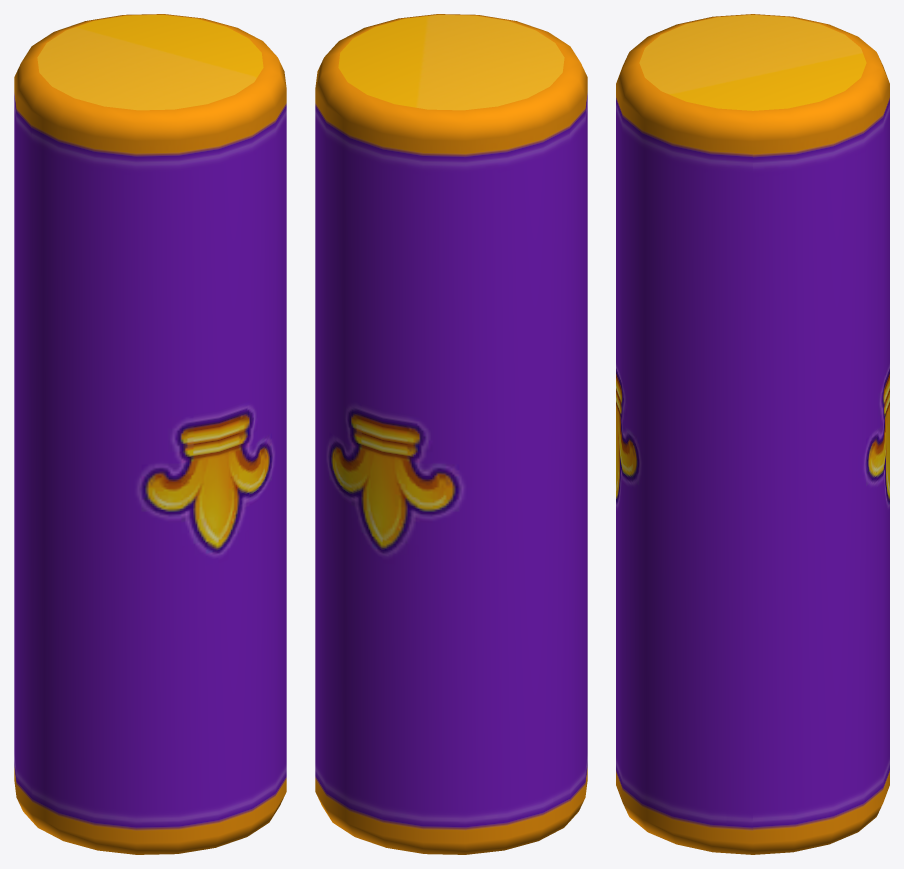
3 views of the same model, side by side, from view 1: azimuth 30°, elevation 25°; view 2: azimuth 150°, elevation 25°; view 3: azimuth 270°, elevation 25° (orthographic).
Parts seen in each view (by area): view 1: 4047; view 2: 4047; view 3: 4047.
Part boxes in pixels (x1,y1,x2,y2): 4047: [14, 14, 286, 854]; 4047: [315, 14, 587, 854]; 4047: [616, 14, 889, 854].
Size of the model in its own units: 1 by 2.99 by 1.
Materials: 1 (1 with a texture image).
